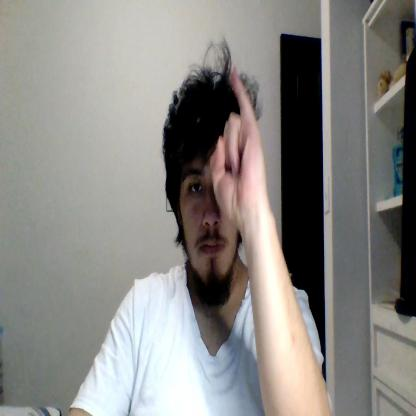I: (212, 68, 265, 219)
